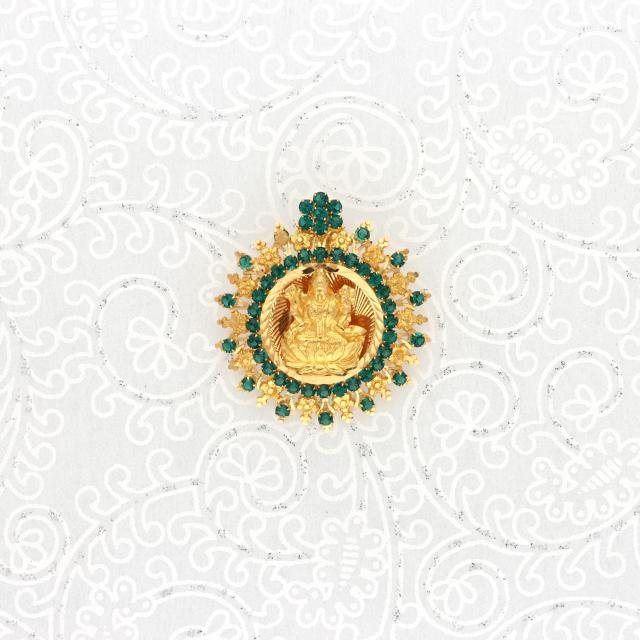missing gem: (275, 229, 289, 245)
